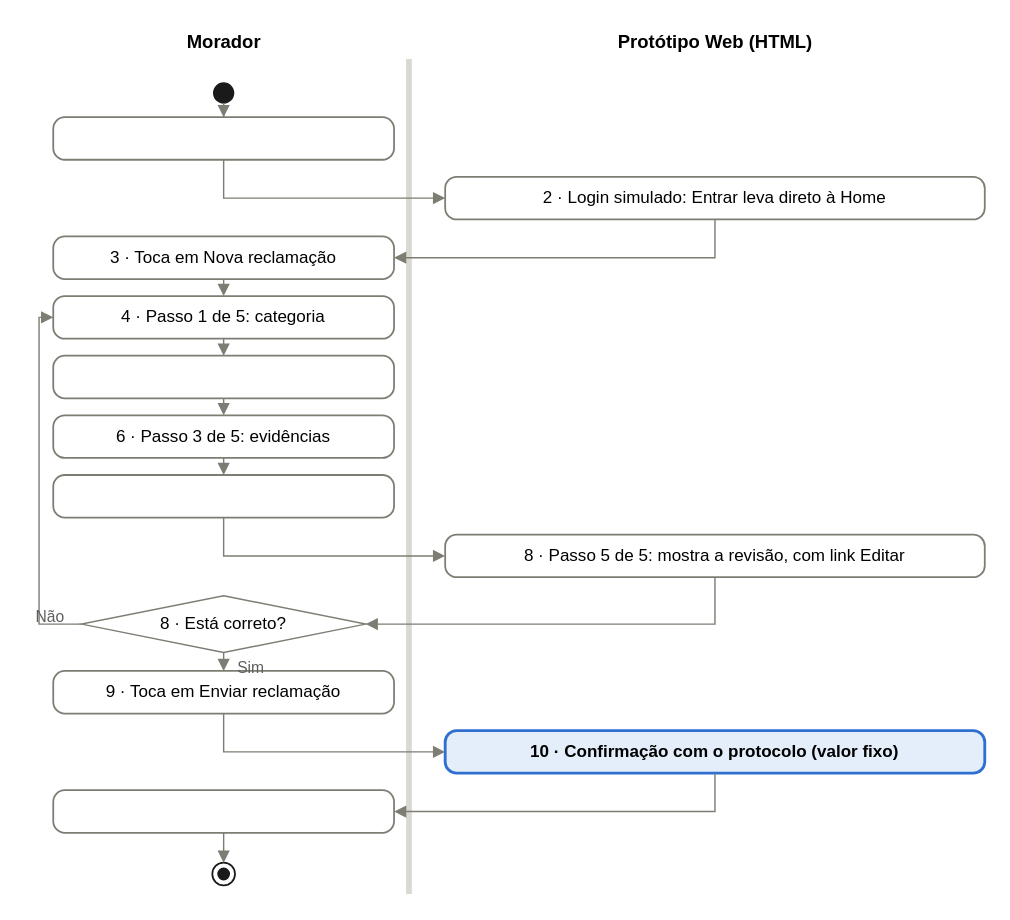
Image size: 1010x920. Some labels were removed from this diagram. The shapes that lost their labels are listed below. From the top down, each one's box as (x1, y1, x2, y2) in pixels, then its label:
(52, 116, 394, 160): 1 · Abre o protótipo (#main)
(52, 354, 394, 399): 5 · Passo 2 de 5: detalhes
(52, 473, 394, 518): 7 · Passo 4 de 5: localização
(52, 789, 394, 833): 11 · Segue para Detalhes ou Início
